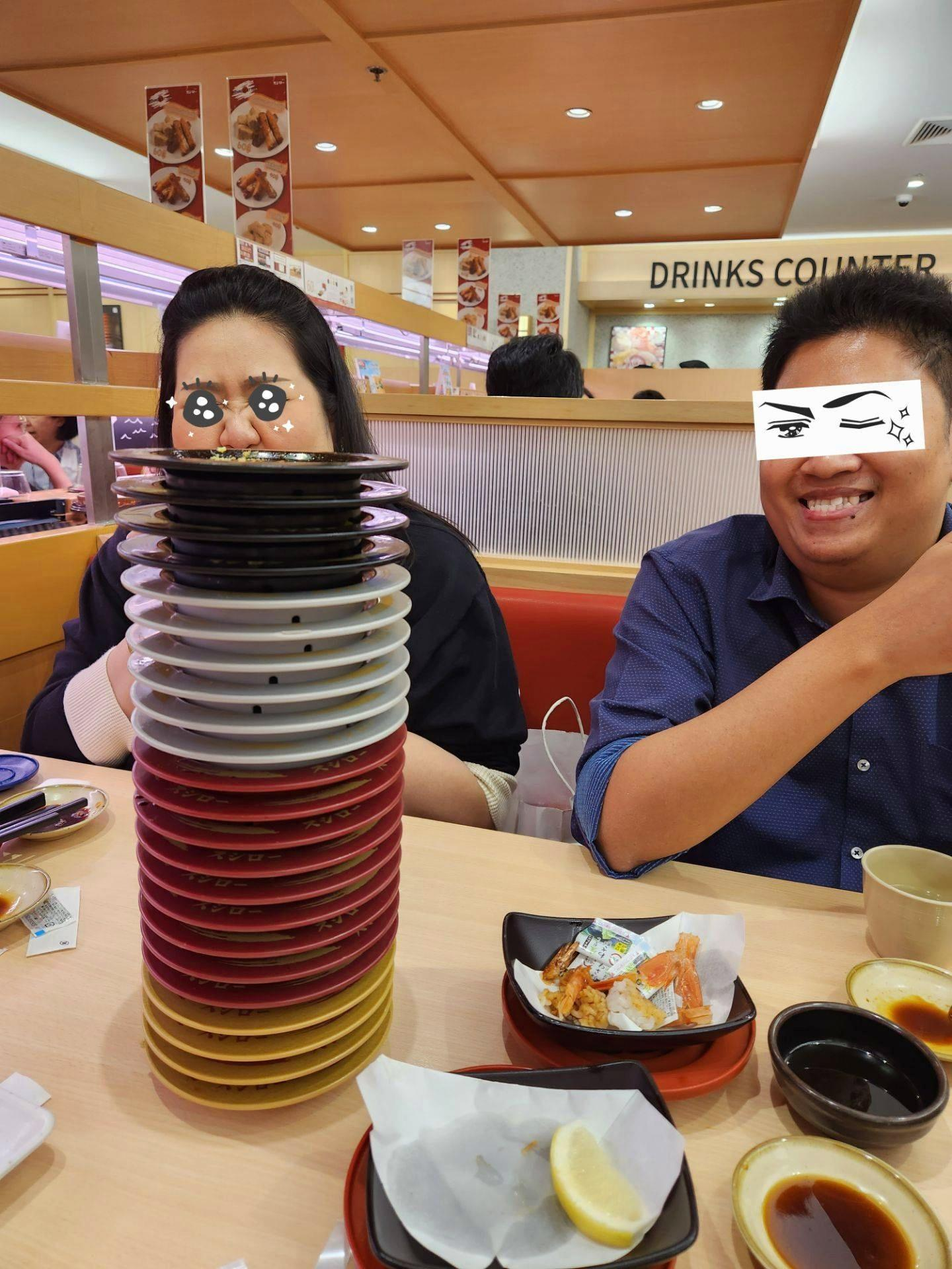Janback: (127, 534, 413, 571), (125, 507, 409, 536), (120, 448, 413, 474), (125, 480, 412, 506)
Jangold: (167, 1004, 353, 1033), (167, 1061, 337, 1083), (180, 1088, 318, 1113), (164, 1040, 332, 1056)
Janred: (142, 766, 398, 789), (148, 792, 369, 815), (164, 823, 365, 847), (164, 854, 350, 876), (181, 937, 347, 958), (185, 909, 353, 926), (171, 887, 338, 904), (180, 985, 333, 1002), (197, 963, 324, 982)
Janwhite: (142, 592, 394, 621), (155, 625, 372, 651), (181, 710, 373, 733), (164, 659, 359, 680), (180, 736, 357, 757), (170, 688, 355, 707)
